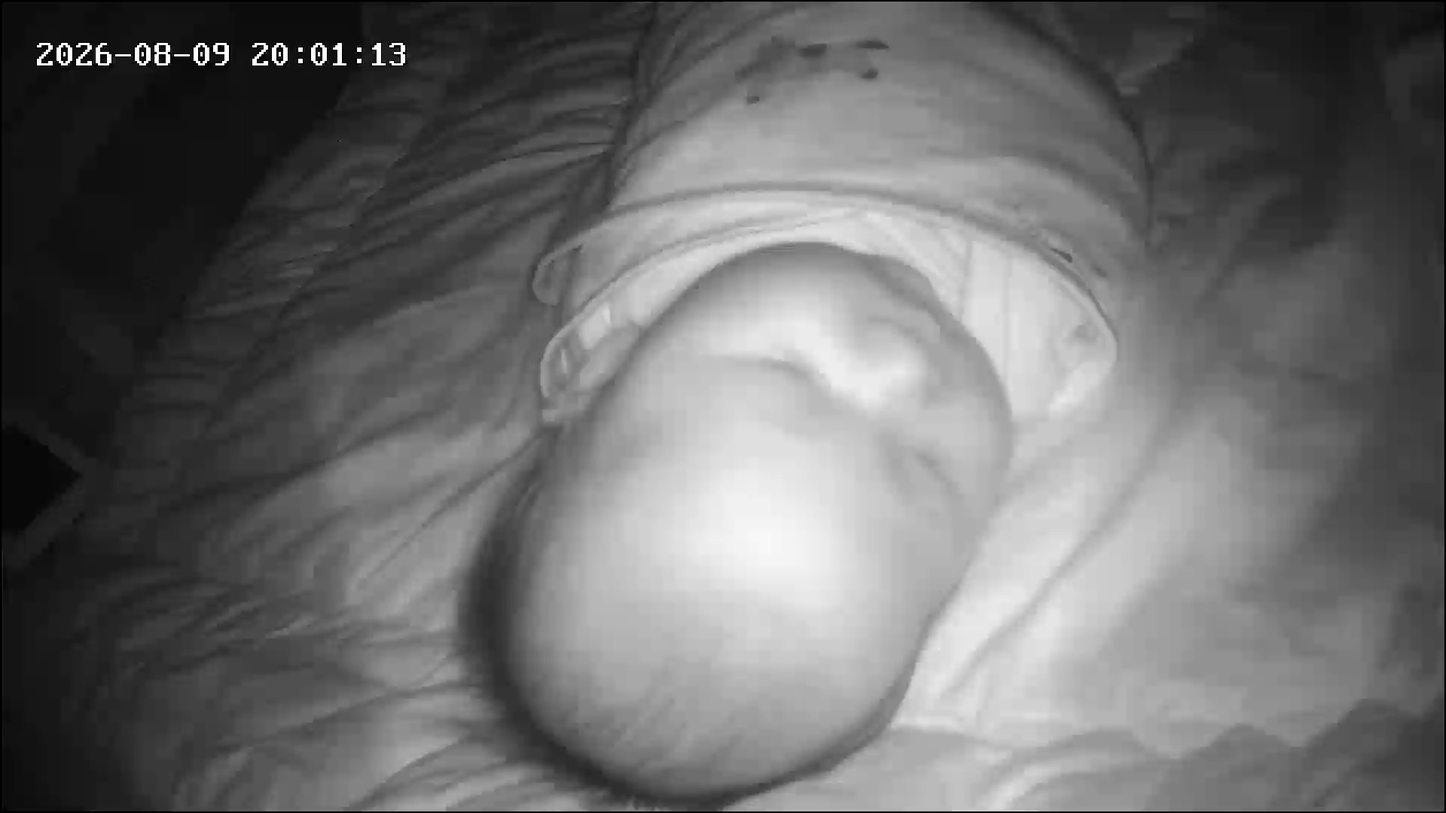baby: (425, 2, 1430, 806)
baby_face: (473, 245, 1035, 804)
